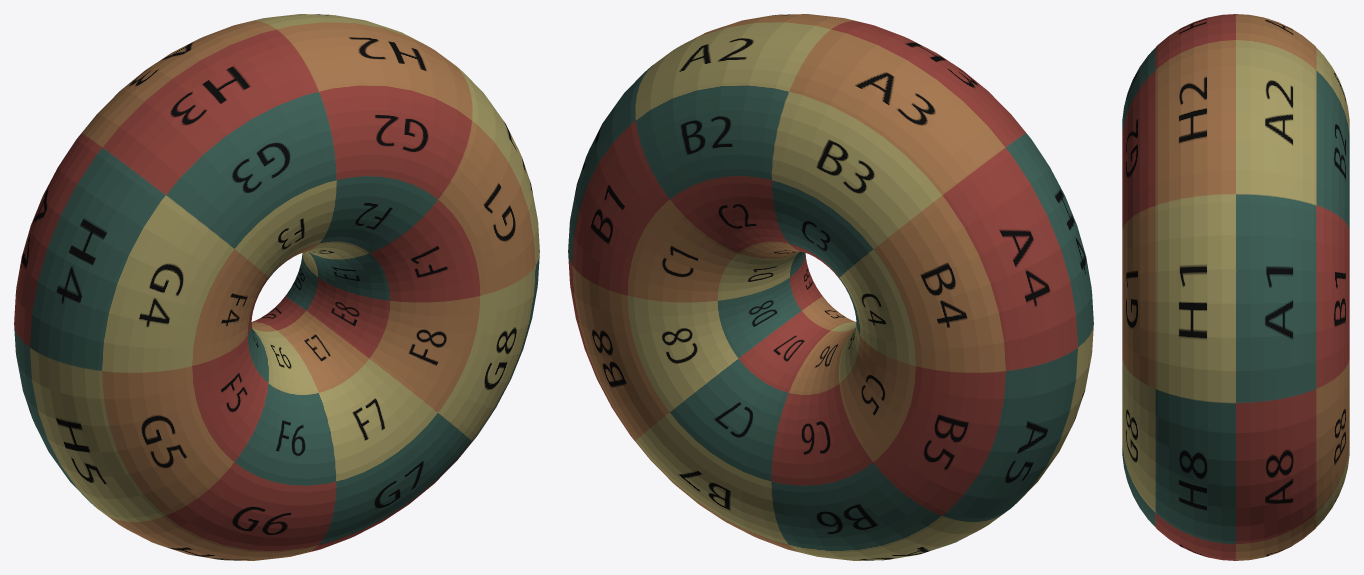
File: texture_torus_R6_r30.glb
3 views of the same model, side by side, from view 1: azimuth 30°, elevation 25°; view 2: azimuth 150°, elevation 25°; view 3: azimuth 270°, elevation 25° (orthographic). The views are drawn at different scales.
Parts seen in each view (by area): view 1: world; view 2: world; view 3: world.
Boxes of the visible parts, x1,y1,x2,y2 form: world: [14, 14, 539, 560]; world: [568, 14, 1093, 560]; world: [1122, 14, 1349, 560].
Bounding box in the file's own units: 24 × 23.95 × 9.98.
Materials: 1 (1 with a texture image).
